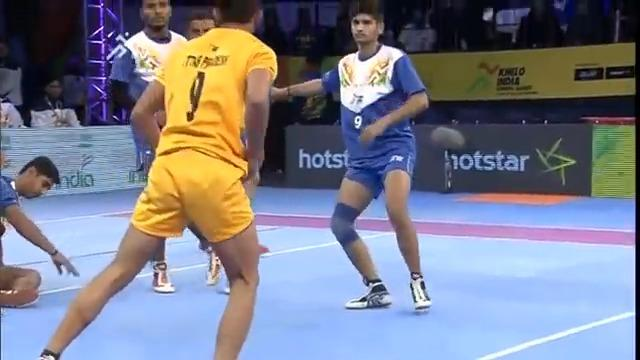Player: (269, 8, 435, 314), (107, 0, 222, 293), (107, 0, 187, 124)
Raider: (35, 0, 278, 358)
